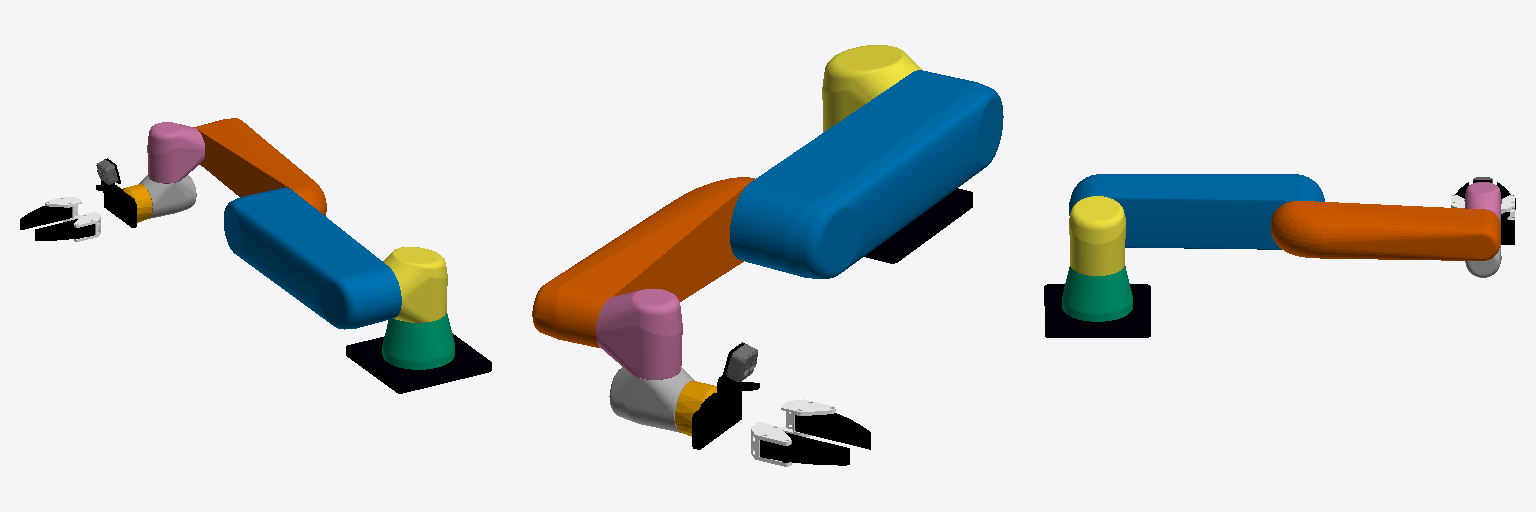
The robot description file, URDF, robot "ur5e_gemini_wsg50":
<?xml version='1.0' encoding='utf-8'?>
<robot name="ur5e_gemini_wsg50">
  <!--UR5e + WSG50 + Gemini 305. WSG50 source: caelan/pybullet-planning models/drake/wsg_50_description.-->
  <material name="dark_blue">
    <color rgba="0.005 0.005 0.04 1.0" />
  </material>
  <material name="wsg_gray">
    <color rgba="0.5 0.5 0.5 1" />
  </material>
  <material name="wsg_black">
    <color rgba="0.02 0.02 0.02 1" />
  </material>
  <material name="mount_black">
    <color rgba="0 0 0 1" />
  </material>
  <material name="fin_mount_white">
    <color rgba="1 1 1 1" />
  </material>
  <material name="soft_finger_black">
    <color rgba="0 0 0 1" />
  </material>
  <material name="gemini_305_gray">
    <color rgba="0.45 0.45 0.45 1" />
  </material>
  <link name="base">
    <inertial>
      <mass value="0.001" />
      <inertia ixx="1e-9" ixy="0" ixz="0" iyy="1e-9" iyz="0" izz="1e-9" />
    </inertial>
    <visual>
      <origin xyz="0 0 -0.01" rpy="0 0 0" />
      <geometry>
        <mesh filename="meshes/base_plate.obj" />
      </geometry>
      <material name="dark_blue" />
    </visual>
  </link>
  <link name="ur5e_base_link">
    <inertial>
      <mass value="0.001" />
      <inertia ixx="1e-9" ixy="0" ixz="0" iyy="1e-9" iyz="0" izz="1e-9" />
    </inertial>
  </link>
  <link name="ur5e_link_0">
    <visual>
      <origin rpy="0 0 3.14159265359" xyz="0 0 0" />
      <geometry>
        <mesh filename="ur5e/meshes/visual/base.obj" />
      </geometry>
    </visual>
    <inertial>
      <mass value="4.0" />
      <origin rpy="0 0 0" xyz="0 0 0" />
      <inertia ixx="0.00443333156" ixy="0.0" ixz="0.0" iyy="0.00443333156" iyz="0.0" izz="0.0072" />
    </inertial>
  </link>
  <link name="ur5e_link_1">
    <visual>
      <origin rpy="0 0 3.14159265359" xyz="0 0 0" />
      <geometry>
        <mesh filename="ur5e/meshes/visual/shoulder.obj" />
      </geometry>
    </visual>
    <inertial>
      <mass value="3.7" />
      <origin rpy="0 0 0" xyz="0 0 0" />
      <inertia ixx="0.010267495893" ixy="0.0" ixz="0.0" iyy="0.010267495893" iyz="0.0" izz="0.00666" />
    </inertial>
  </link>
  <link name="ur5e_link_2">
    <visual>
      <origin rpy="1.57079632679 0 -1.57079632679" xyz="0 0 0.138" />
      <geometry>
        <mesh filename="ur5e/meshes/visual/upperarm.obj" />
      </geometry>
    </visual>
    <collision>
      <origin xyz="-0.212 0 0.135" rpy="0 1.5708 0" />
      <geometry>
        <cylinder radius="0.055" length="0.45" />
      </geometry>
    </collision>
    <inertial>
      <mass value="8.393" />
      <origin rpy="0 1.57079632679 0" xyz="-0.2125 0.0 0.138" />
      <inertia ixx="0.133885781862" ixy="0.0" ixz="0.0" iyy="0.133885781862" iyz="0.0" izz="0.0151074" />
    </inertial>
  </link>
  <link name="ur5e_link_3">
    <visual>
      <origin rpy="1.57079632679 0 -1.57079632679" xyz="0 0 0.007" />
      <geometry>
        <mesh filename="ur5e/meshes/visual/forearm.obj" />
      </geometry>
    </visual>
    <collision>
      <origin xyz="-0.186 0 0.006" rpy="0 1.5708 0" />
      <geometry>
        <cylinder radius="0.045" length="0.39" />
      </geometry>
    </collision>
    <inertial>
      <mass value="2.275" />
      <origin rpy="0 1.57079632679 0" xyz="-0.1961 0.0 0.007" />
      <inertia ixx="0.0312093550996" ixy="0.0" ixz="0.0" iyy="0.0312093550996" iyz="0.0" izz="0.004095" />
    </inertial>
  </link>
  <link name="ur5e_link_4">
    <visual>
      <origin rpy="1.57079632679 0 0" xyz="0 0 -0.127" />
      <geometry>
        <mesh filename="ur5e/meshes/visual/wrist1.obj" />
      </geometry>
    </visual>
    <collision>
      <origin xyz="0 0 -0.048" rpy="0 0 0" />
      <geometry>
        <cylinder radius="0.04" length="0.08" />
      </geometry>
    </collision>
    <inertial>
      <mass value="1.219" />
      <origin rpy="0 0 0" xyz="0 0 0" />
      <inertia ixx="0.00255989897604" ixy="0.0" ixz="0.0" iyy="0.00255989897604" iyz="0.0" izz="0.0021942" />
    </inertial>
  </link>
  <link name="ur5e_link_5">
    <visual>
      <origin rpy="0 0 0" xyz="0 0 -0.0997" />
      <geometry>
        <mesh filename="ur5e/meshes/visual/wrist2.obj" />
      </geometry>
    </visual>
    <collision>
      <origin xyz="0 0 -0.044" rpy="0 0 0" />
      <geometry>
        <cylinder radius="0.04" length="0.07" />
      </geometry>
    </collision>
    <inertial>
      <mass value="1.219" />
      <origin rpy="0 0 0" xyz="0 0 0" />
      <inertia ixx="0.00255989897604" ixy="0.0" ixz="0.0" iyy="0.00255989897604" iyz="0.0" izz="0.0021942" />
    </inertial>
  </link>
  <link name="ur5e_link_6">
    <visual>
      <origin rpy="1.57079632679 0 0" xyz="0 0 -0.0989" />
      <geometry>
        <mesh filename="ur5e/meshes/visual/wrist3.obj" />
      </geometry>
    </visual>
    <collision>
      <origin xyz="0 0 -0.023" rpy="0 0 0" />
      <geometry>
        <cylinder radius="0.035" length="0.04" />
      </geometry>
    </collision>
    <inertial>
      <mass value="0.1879" />
      <origin rpy="0 0 0" xyz="0.0 0.0 -0.0229" />
      <inertia ixx="9.89041005217e-05" ixy="0.0" ixz="0.0" iyy="9.89041005217e-05" iyz="0.0" izz="0.0001321171875" />
    </inertial>
  </link>
  <link name="ur5e_base_fixed_link">
    <inertial>
      <mass value="0.001" />
      <inertia ixx="1e-9" ixy="0" ixz="0" iyy="1e-9" iyz="0" izz="1e-9" />
    </inertial>
  </link>
  <link name="ee_link">
    <inertial>
      <mass value="0.001" />
      <inertia ixx="1e-9" ixy="0" ixz="0" iyy="1e-9" iyz="0" izz="1e-9" />
    </inertial>
  </link>
  <joint name="base_yaw_joint" type="fixed">
    <parent link="base" />
    <child link="ur5e_base_link" />
    <origin rpy="0 0 1.5708" xyz="0 0 0" />
  </joint>
  <joint name="ur5e_base_inertia_joint" type="fixed">
    <parent link="ur5e_base_link" />
    <child link="ur5e_link_0" />
    <origin rpy="0 0 3.14159265359" xyz="0 0 0" />
  </joint>
  <joint name="ur5e_joint_1" type="revolute">
    <parent link="ur5e_link_0" />
    <child link="ur5e_link_1" />
    <origin rpy="0 0 0" xyz="0 0 0.1625" />
    <axis xyz="0 0 1" />
    <limit effort="150.0" lower="-6.28318530718" upper="6.28318530718" velocity="3.14159" />
    <dynamics damping="60.0" friction="1.0" />
  </joint>
  <joint name="ur5e_joint_2" type="revolute">
    <parent link="ur5e_link_1" />
    <child link="ur5e_link_2" />
    <origin rpy="1.570796327 0 0" xyz="0 0 0" />
    <axis xyz="0 0 1" />
    <limit effort="150.0" lower="-6.28318530718" upper="6.28318530718" velocity="3.14159" />
    <dynamics damping="60.0" friction="1.0" />
  </joint>
  <joint name="ur5e_joint_3" type="revolute">
    <parent link="ur5e_link_2" />
    <child link="ur5e_link_3" />
    <origin rpy="0 0 0" xyz="-0.425 0 0" />
    <axis xyz="0 0 1" />
    <limit effort="150.0" lower="-3.14159265359" upper="3.14159265359" velocity="3.14159" />
    <dynamics damping="35.0" friction="1.0" />
  </joint>
  <joint name="ur5e_joint_4" type="revolute">
    <parent link="ur5e_link_3" />
    <child link="ur5e_link_4" />
    <origin rpy="0 0 0" xyz="-0.3922 0 0.1333" />
    <axis xyz="0 0 1" />
    <limit effort="28.0" lower="-6.28318530718" upper="6.28318530718" velocity="3.14159" />
    <dynamics damping="20.0" friction="0.5" />
  </joint>
  <joint name="ur5e_joint_5" type="revolute">
    <parent link="ur5e_link_4" />
    <child link="ur5e_link_5" />
    <origin rpy="1.570796327 0 0" xyz="0 -0.0997 -2.0448811823e-11" />
    <axis xyz="0 0 1" />
    <limit effort="28.0" lower="-6.28318530718" upper="6.28318530718" velocity="3.14159" />
    <dynamics damping="20.0" friction="0.5" />
  </joint>
  <joint name="ur5e_joint_6" type="revolute">
    <parent link="ur5e_link_5" />
    <child link="ur5e_link_6" />
    <origin rpy="1.57079632659 3.14159265359 3.14159265359" xyz="0 0.0996 -2.04283014801e-11" />
    <axis xyz="0 0 1" />
    <limit effort="28.0" lower="-6.28318530718" upper="6.28318530718" velocity="3.14159" />
    <dynamics damping="15.0" friction="0.5" />
  </joint>
  <joint name="ur5e_base_fixed_joint" type="fixed">
    <origin rpy="0 0 3.14159265359" xyz="0 0 0" />
    <parent link="ur5e_base_link" />
    <child link="ur5e_base_fixed_link" />
  </joint>
  <joint name="ur5e_flange_joint" type="fixed">
    <parent link="ur5e_link_6" />
    <child link="ee_link" />
    <origin rpy="0 -1.57079632679 -1.57079632679" xyz="0 0 0" />
  </joint>
  <link name="wsg_mount_link">
    <inertial>
      <mass value="0.15" />
      <origin xyz="0 0 0" rpy="0 0 0" />
      <inertia ixx="0.00012" ixy="0" ixz="0" iyy="0.00012" iyz="0" izz="0.00012" />
    </inertial>
  </link>
  <link name="wsg_base_link">
    <visual>
      <origin xyz="0 0 0" rpy="0 0 0" />
      <geometry>
        <mesh filename="wsg50/meshes/WSG50_110.stl" />
      </geometry>
      <material name="wsg_gray" />
    </visual>
    <collision>
      <origin xyz="0 0 0.0363" rpy="0 0 0" />
      <geometry>
        <box size="0.146 0.05 0.073" />
      </geometry>
    </collision>
    <inertial>
      <mass value="1.2" />
      <origin xyz="0 0 0" rpy="0 0 0" />
      <inertia ixx="0.002" ixy="0" ixz="0" iyy="0.002" iyz="0" izz="0.002" />
    </inertial>
  </link>
  <link name="wsg_mount_visual_link">
    <visual>
      <origin xyz="0 0 0" rpy="0 0 0" />
      <geometry>
        <mesh filename="external_meshes/wsg50_mount.stl" />
      </geometry>
      <material name="mount_black" />
    </visual>
    <inertial>
      <mass value="0.001" />
      <origin xyz="0 0 0" rpy="0 0 0" />
      <inertia ixx="1e-09" ixy="0" ixz="0" iyy="1e-09" iyz="0" izz="1e-09" />
    </inertial>
  </link>
  <link name="wsg_left_slider_link">
    <visual>
      <origin xyz="0 0 0" rpy="0 0 0" />
      <geometry>
        <mesh filename="wsg50/meshes/GUIDE_WSG50_110.stl" scale="0.001 0.001 0.001" />
      </geometry>
      <material name="wsg_black" />
    </visual>
    <inertial>
      <mass value="0.1" />
      <origin xyz="0 0 0" rpy="0 0 0" />
      <inertia ixx="8e-05" ixy="0" ixz="0" iyy="8e-05" iyz="0" izz="8e-05" />
    </inertial>
  </link>
  <link name="wsg_right_slider_link">
    <visual>
      <origin xyz="0 0 0" rpy="0 0 3.141592654" />
      <geometry>
        <mesh filename="wsg50/meshes/GUIDE_WSG50_110.stl" scale="0.001 0.001 0.001" />
      </geometry>
      <material name="wsg_black" />
    </visual>
    <inertial>
      <mass value="0.1" />
      <origin xyz="0 0 0" rpy="0 0 0" />
      <inertia ixx="8e-05" ixy="0" ixz="0" iyy="8e-05" iyz="0" izz="8e-05" />
    </inertial>
  </link>
  <link name="soft_finger_left_link">
    <visual>
      <origin xyz="0 0 0" rpy="0 0 0" />
      <geometry>
        <mesh filename="external_meshes/soft_gripper_finger_left.stl" />
      </geometry>
      <material name="soft_finger_black" />
    </visual>
    <collision>
      <origin xyz="0.0165 -0.016 0.0129" rpy="0 0 0" />
      <geometry>
        <box size="0.033 0.032 0.026" />
      </geometry>
    </collision>
    <collision>
      <origin xyz="0.01575 -0.043 0.0129" rpy="0 0 0" />
      <geometry>
        <box size="0.0315 0.032 0.026" />
      </geometry>
    </collision>
    <collision>
      <origin xyz="0.012375 -0.069 0.0129" rpy="0 0 0" />
      <geometry>
        <box size="0.02475 0.032 0.026" />
      </geometry>
    </collision>
    <collision>
      <origin xyz="0.006 -0.093 0.0129" rpy="0 0 0" />
      <geometry>
        <box size="0.012 0.032 0.026" />
      </geometry>
    </collision>
    <collision>
      <origin xyz="0.0025 -0.113 0.0129" rpy="0 0 0" />
      <geometry>
        <box size="0.005 0.02 0.026" />
      </geometry>
    </collision>
    <inertial>
      <mass value="0.05" />
      <origin xyz="0 0 0" rpy="0 0 0" />
      <inertia ixx="4e-05" ixy="0" ixz="0" iyy="4e-05" iyz="0" izz="4e-05" />
    </inertial>
  </link>
  <link name="soft_finger_right_link">
    <visual>
      <origin xyz="0 0 0" rpy="0 0 0" />
      <geometry>
        <mesh filename="external_meshes/soft_gripper_finger_right.stl" />
      </geometry>
      <material name="soft_finger_black" />
    </visual>
    <collision>
      <origin xyz="-0.0165 -0.016 0.0129" rpy="0 0 0" />
      <geometry>
        <box size="0.033 0.032 0.026" />
      </geometry>
    </collision>
    <collision>
      <origin xyz="-0.01575 -0.043 0.0129" rpy="0 0 0" />
      <geometry>
        <box size="0.0315 0.032 0.026" />
      </geometry>
    </collision>
    <collision>
      <origin xyz="-0.012375 -0.069 0.0129" rpy="0 0 0" />
      <geometry>
        <box size="0.02475 0.032 0.026" />
      </geometry>
    </collision>
    <collision>
      <origin xyz="-0.006 -0.093 0.0129" rpy="0 0 0" />
      <geometry>
        <box size="0.012 0.032 0.026" />
      </geometry>
    </collision>
    <collision>
      <origin xyz="-0.0025 -0.113 0.0129" rpy="0 0 0" />
      <geometry>
        <box size="0.005 0.02 0.026" />
      </geometry>
    </collision>
    <inertial>
      <mass value="0.05" />
      <origin xyz="0 0 0" rpy="0 0 0" />
      <inertia ixx="4e-05" ixy="0" ixz="0" iyy="4e-05" iyz="0" izz="4e-05" />
    </inertial>
  </link>
  <link name="finger_holder_left_visual_link">
    <visual>
      <origin xyz="0 0 0" rpy="0 0 0" />
      <geometry>
        <mesh filename="external_meshes/finger_holder_left.obj" />
      </geometry>
      <material name="fin_mount_white" />
    </visual>
    <inertial>
      <mass value="0.001" />
      <origin xyz="0 0 0" rpy="0 0 0" />
      <inertia ixx="1e-09" ixy="0" ixz="0" iyy="1e-09" iyz="0" izz="1e-09" />
    </inertial>
  </link>
  <link name="finger_holder_right_visual_link">
    <visual>
      <origin xyz="0 0 0" rpy="0 0 0" />
      <geometry>
        <mesh filename="external_meshes/finger_holder_right.obj" />
      </geometry>
      <material name="fin_mount_white" />
    </visual>
    <inertial>
      <mass value="0.001" />
      <origin xyz="0 0 0" rpy="0 0 0" />
      <inertia ixx="1e-09" ixy="0" ixz="0" iyy="1e-09" iyz="0" izz="1e-09" />
    </inertial>
  </link>
  <link name="gemini_mount_link">
    <visual>
      <origin xyz="0 0 0" rpy="0 0 0" />
      <geometry>
        <mesh filename="external_meshes/gemini_mount.stl" />
      </geometry>
      <material name="mount_black" />
    </visual>
    <collision>
      <origin xyz="0.0058 0.0704 0.0055" rpy="0 0 0" />
      <geometry>
        <box size="0.053 0.075 0.021" />
      </geometry>
    </collision>
    <inertial>
      <mass value="0.04" />
      <origin xyz="0 0 0" rpy="0 0 0" />
      <inertia ixx="1e-05" ixy="0" ixz="0" iyy="1e-05" iyz="0" izz="1e-05" />
    </inertial>
  </link>
  <link name="gemini_305_link">
    <visual>
      <origin xyz="0 0 0" rpy="3.141592654 0 0" />
      <geometry>
        <mesh filename="gemini_305/meshes/gemini_305_rotated.obj" scale="0.001 0.001 0.001" />
      </geometry>
      <material name="gemini_305_gray" />
    </visual>
    <collision>
      <origin xyz="0 0 0" rpy="0 0 0" />
      <geometry>
        <box size="0.042 0.042 0.025" />
      </geometry>
    </collision>
    <inertial>
      <mass value="0.065" />
      <origin xyz="0 0 0" rpy="0 0 0" />
      <inertia ixx="1e-05" ixy="0" ixz="0" iyy="1e-05" iyz="0" izz="1e-05" />
    </inertial>
  </link>
  <link name="gemini_305_left_camera_frame">
    <inertial>
      <mass value="0.001" />
      <origin xyz="0 0 0" rpy="0 0 0" />
      <inertia ixx="1e-09" ixy="0" ixz="0" iyy="1e-09" iyz="0" izz="1e-09" />
    </inertial>
  </link>
  <link name="gemini_305_left_camera_optical_frame">
    <inertial>
      <mass value="0.001" />
      <origin xyz="0 0 0" rpy="0 0 0" />
      <inertia ixx="1e-09" ixy="0" ixz="0" iyy="1e-09" iyz="0" izz="1e-09" />
    </inertial>
  </link>
  <link name="gemini_305_right_camera_frame">
    <inertial>
      <mass value="0.001" />
      <origin xyz="0 0 0" rpy="0 0 0" />
      <inertia ixx="1e-09" ixy="0" ixz="0" iyy="1e-09" iyz="0" izz="1e-09" />
    </inertial>
  </link>
  <link name="gemini_305_right_camera_optical_frame">
    <inertial>
      <mass value="0.001" />
      <origin xyz="0 0 0" rpy="0 0 0" />
      <inertia ixx="1e-09" ixy="0" ixz="0" iyy="1e-09" iyz="0" izz="1e-09" />
    </inertial>
  </link>
  <link name="palm_frame">
    <inertial>
      <mass value="0.001" />
      <origin xyz="0 0 0" rpy="0 0 0" />
      <inertia ixx="1e-09" ixy="0" ixz="0" iyy="1e-09" iyz="0" izz="1e-09" />
    </inertial>
  </link>
  <link name="left_tip">
    <inertial>
      <mass value="0.001" />
      <origin xyz="0 0 0" rpy="0 0 0" />
      <inertia ixx="1e-09" ixy="0" ixz="0" iyy="1e-09" iyz="0" izz="1e-09" />
    </inertial>
  </link>
  <link name="right_tip">
    <inertial>
      <mass value="0.001" />
      <origin xyz="0 0 0" rpy="0 0 0" />
      <inertia ixx="1e-09" ixy="0" ixz="0" iyy="1e-09" iyz="0" izz="1e-09" />
    </inertial>
  </link>
  <joint name="wsg_mount_joint" type="fixed">
    <parent link="ee_link" />
    <child link="wsg_mount_link" />
    <origin xyz="0.01 0 0" rpy="-1.570796327 3.141592654 -1.570796327" />
  </joint>
  <joint name="wsg_base_mount_joint" type="fixed">
    <parent link="wsg_mount_link" />
    <child link="wsg_base_link" />
    <origin xyz="0 0 0" rpy="0 0 0" />
  </joint>
  <joint name="wsg_mount_visual_joint" type="fixed">
    <parent link="wsg_base_link" />
    <child link="wsg_mount_visual_link" />
    <origin xyz="0 0 0" rpy="0 0 0" />
  </joint>
  <joint name="wsg_left_finger_joint" type="prismatic">
    <parent link="wsg_base_link" />
    <child link="wsg_left_slider_link" />
    <origin xyz="0 0 0" rpy="0 0 0" />
    <axis xyz="1 0 0" />
    <limit lower="-0.055" upper="-0.0027" effort="100" velocity="0.2" />
    <dynamics damping="10" friction="1" />
  </joint>
  <joint name="wsg_right_finger_joint" type="prismatic">
    <parent link="wsg_base_link" />
    <child link="wsg_right_slider_link" />
    <origin xyz="0 0 0" rpy="0 0 0" />
    <axis xyz="1 0 0" />
    <limit lower="0.0027" upper="0.055" effort="100" velocity="0.2" />
    <dynamics damping="10" friction="1" />
  </joint>
  <joint name="soft_finger_left_joint" type="fixed">
    <parent link="wsg_left_slider_link" />
    <child link="soft_finger_left_link" />
    <origin xyz="0 0.013 0.098" rpy="-1.570796327 0 -3.141592654" />
  </joint>
  <joint name="soft_finger_right_joint" type="fixed">
    <parent link="wsg_right_slider_link" />
    <child link="soft_finger_right_link" />
    <origin xyz="0 0.013 0.098" rpy="-1.570796327 0 -3.141592654" />
  </joint>
  <joint name="finger_holder_left_visual_joint" type="fixed">
    <parent link="soft_finger_left_link" />
    <child link="finger_holder_left_visual_link" />
    <origin xyz="-0.001 0.101 0.013" rpy="1.570796327 0 0" />
  </joint>
  <joint name="finger_holder_right_visual_joint" type="fixed">
    <parent link="soft_finger_right_link" />
    <child link="finger_holder_right_visual_link" />
    <origin xyz="0.001 0.1 0.013" rpy="1.570796327 0 0" />
  </joint>
  <joint name="left_tip_joint" type="fixed">
    <parent link="soft_finger_left_link" />
    <child link="left_tip" />
    <origin xyz="0.0005 -0.1085 0.0129" rpy="3.141592654 3.141592654 3.141592654" />
  </joint>
  <joint name="right_tip_joint" type="fixed">
    <parent link="soft_finger_right_link" />
    <child link="right_tip" />
    <origin xyz="-0.0005 -0.1085 0.0129" rpy="0 0 3.141592654" />
  </joint>
  <joint name="palm_frame_joint" type="fixed">
    <parent link="wsg_base_link" />
    <child link="palm_frame" />
    <origin xyz="0 0 0.146" rpy="0 0 1.570796327" />
  </joint>
  <joint name="gemini_mount_joint" type="fixed">
    <parent link="wsg_base_link" />
    <child link="gemini_mount_link" />
    <origin xyz="0 0.0025 0.0235" rpy="3.141592654 0 3.141592654" />
  </joint>
  <joint name="gemini_305_mount_joint" type="fixed">
    <parent link="gemini_mount_link" />
    <child link="gemini_305_link" />
    <origin xyz="0 0.085 -0.0085" rpy="-2.879793266 0 3.141592654" />
  </joint>
  <joint name="gemini_305_left_camera_joint" type="fixed">
    <parent link="gemini_305_link" />
    <child link="gemini_305_left_camera_frame" />
    <origin xyz="0.009 0 0.0126" rpy="0 0 0" />
  </joint>
  <joint name="gemini_305_left_optical_joint" type="fixed">
    <parent link="gemini_305_left_camera_frame" />
    <child link="gemini_305_left_camera_optical_frame" />
    <origin xyz="0 0 0" rpy="0 0 3.141592654" />
  </joint>
  <joint name="gemini_305_right_camera_joint" type="fixed">
    <parent link="gemini_305_link" />
    <child link="gemini_305_right_camera_frame" />
    <origin xyz="-0.009 0 0.0126" rpy="0 0 0" />
  </joint>
  <joint name="gemini_305_right_optical_joint" type="fixed">
    <parent link="gemini_305_right_camera_frame" />
    <child link="gemini_305_right_camera_optical_frame" />
    <origin xyz="0 0 0" rpy="0 0 3.141592654" />
  </joint>
</robot>

--- Facts derived from the render (not from the file) ---
Views: 3 orthographic renders of the robot side by side, from view 1: azimuth 30°, elevation 25°; view 2: azimuth 150°, elevation 25°; view 3: azimuth 270°, elevation 25°.
Model ur5e_gemini_wsg50 with 29 links and 28 joints (6 revolute, 2 prismatic, 20 fixed), rooted at base, posed joints at zero except 2 at the middle of their limits (wsg_left_finger_joint = -0.0289, wsg_right_finger_joint = 0.0289).
Links seen in each view (by area): view 1: ur5e_link_2, ur5e_link_3, ur5e_link_1, base, ur5e_link_0, ur5e_link_4, ur5e_link_5, wsg_mount_visual_link, soft_finger_right_link, soft_finger_left_link, ur5e_link_6; view 2: ur5e_link_2, ur5e_link_3, ur5e_link_4, ur5e_link_1, ur5e_link_5, base, wsg_mount_visual_link, soft_finger_left_link, soft_finger_right_link, ur5e_link_6, finger_holder_left_visual_link, finger_holder_right_visual_link (+1 smaller); view 3: ur5e_link_2, ur5e_link_3, ur5e_link_1, base, ur5e_link_0, ur5e_link_4, ur5e_link_5.
Link boxes in pixels (x1=…): ur5e_link_2: x1=224, y1=187, x2=401, y2=329; ur5e_link_3: x1=194, y1=118, x2=326, y2=215; ur5e_link_1: x1=383, y1=247, x2=447, y2=322; base: x1=346, y1=333, x2=491, y2=393; ur5e_link_0: x1=382, y1=313, x2=454, y2=369; ur5e_link_4: x1=147, y1=122, x2=204, y2=183; ur5e_link_5: x1=139, y1=175, x2=196, y2=218; wsg_mount_visual_link: x1=96, y1=184, x2=136, y2=227; soft_finger_right_link: x1=35, y1=219, x2=94, y2=240; soft_finger_left_link: x1=20, y1=206, x2=71, y2=229; ur5e_link_6: x1=123, y1=184, x2=152, y2=222; ur5e_link_2: x1=730, y1=70, x2=1003, y2=278; ur5e_link_3: x1=532, y1=177, x2=754, y2=347; ur5e_link_4: x1=596, y1=289, x2=682, y2=379; ur5e_link_1: x1=822, y1=45, x2=921, y2=132; ur5e_link_5: x1=609, y1=367, x2=694, y2=432; base: x1=864, y1=188, x2=972, y2=263; wsg_mount_visual_link: x1=692, y1=382, x2=759, y2=449; soft_finger_left_link: x1=760, y1=432, x2=849, y2=465; soft_finger_right_link: x1=795, y1=413, x2=870, y2=449; ur5e_link_6: x1=675, y1=381, x2=716, y2=436; finger_holder_left_visual_link: x1=751, y1=422, x2=791, y2=466; finger_holder_right_visual_link: x1=781, y1=399, x2=835, y2=436; ur5e_link_2: x1=1069, y1=174, x2=1324, y2=249; ur5e_link_3: x1=1271, y1=201, x2=1500, y2=260; ur5e_link_1: x1=1069, y1=196, x2=1125, y2=275; base: x1=1044, y1=284, x2=1150, y2=337; ur5e_link_0: x1=1062, y1=266, x2=1132, y2=321; ur5e_link_4: x1=1464, y1=182, x2=1501, y2=224; ur5e_link_5: x1=1465, y1=244, x2=1501, y2=277.
Bounding box of the posed robot: 0.5768 × 0.9985 × 0.254 m (x, y, z).
Meshes: 17 distinct files referenced, 15 mesh visuals loaded (4 binary STL, 11 OBJ); not drawn: 3 (reference not matched to a file when rendering).
